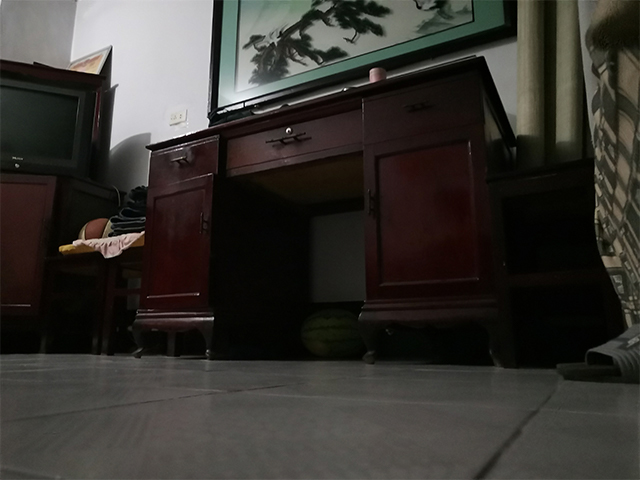cabinet: (133, 52, 525, 370), (1, 171, 129, 354)
slippers: (554, 322, 640, 384)
stool: (482, 155, 627, 371), (36, 172, 146, 357)
